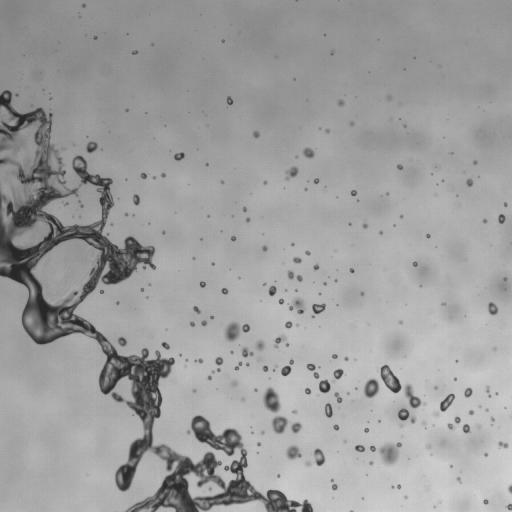droplet: (370, 442, 401, 465), (224, 322, 250, 341), (263, 387, 281, 413), (363, 378, 379, 398), (271, 415, 288, 433), (397, 408, 416, 423), (289, 297, 305, 314), (313, 448, 325, 466), (286, 445, 301, 459), (285, 166, 298, 180), (274, 335, 288, 348), (312, 303, 325, 316), (332, 368, 343, 382), (319, 379, 330, 393), (86, 141, 97, 153), (488, 302, 498, 315), (303, 147, 314, 158), (324, 403, 332, 417), (242, 347, 253, 357), (291, 422, 301, 433), (174, 152, 184, 161), (255, 340, 264, 350), (268, 285, 276, 296), (117, 337, 126, 346), (464, 387, 472, 397), (334, 392, 342, 402), (215, 357, 223, 366), (462, 424, 470, 433), (498, 441, 508, 448), (355, 445, 365, 452), (133, 194, 139, 205), (498, 214, 505, 223), (466, 178, 473, 186), (161, 342, 169, 349), (193, 306, 200, 313), (285, 321, 292, 328), (293, 257, 301, 263), (338, 99, 344, 106), (140, 172, 146, 179), (221, 288, 228, 294), (227, 96, 232, 104), (253, 131, 259, 137), (313, 264, 319, 270), (262, 365, 268, 371), (196, 358, 203, 363), (332, 483, 337, 490), (506, 504, 511, 511), (262, 245, 267, 251), (200, 281, 205, 287), (231, 381, 237, 386), (305, 388, 310, 394), (333, 424, 338, 430), (305, 461, 311, 466), (397, 164, 402, 169), (351, 190, 356, 195), (305, 250, 310, 255), (412, 261, 417, 266), (278, 299, 283, 304), (201, 320, 206, 325), (434, 411, 439, 416), (483, 499, 488, 504), (132, 50, 137, 54), (314, 178, 318, 183), (362, 224, 367, 228), (231, 236, 236, 240), (349, 268, 354, 272), (190, 321, 194, 326), (332, 354, 337, 358), (344, 356, 348, 361), (469, 410, 474, 414), (364, 427, 368, 432), (456, 477, 460, 482), (397, 484, 401, 489), (387, 96, 391, 100), (350, 121, 354, 125), (473, 160, 477, 164), (161, 173, 165, 177), (207, 375, 211, 379), (482, 219, 487, 222), (292, 410, 297, 413), (326, 129, 329, 133), (263, 181, 267, 184), (243, 207, 246, 211), (246, 218, 250, 221), (503, 277, 507, 280), (423, 422, 426, 426), (257, 442, 260, 446), (426, 445, 430, 448), (79, 202, 82, 205), (504, 203, 507, 206), (426, 234, 429, 237), (442, 302, 445, 305), (399, 321, 402, 324), (217, 368, 220, 371), (491, 417, 494, 420), (484, 453, 487, 456), (369, 461, 372, 464), (82, 4, 85, 6), (94, 36, 96, 39), (304, 188, 307, 190), (400, 215, 403, 217), (162, 231, 165, 233), (379, 231, 382, 233), (291, 243, 294, 245), (100, 290, 103, 292), (361, 292, 363, 295), (211, 316, 213, 319), (230, 351, 233, 353), (246, 363, 249, 365), (273, 367, 276, 369), (454, 377, 456, 380), (193, 389, 195, 392), (241, 398, 244, 400), (261, 431, 264, 433), (404, 496, 407, 498), (153, 176, 155, 178), (386, 192, 388, 194), (65, 203, 67, 205), (125, 213, 127, 215), (263, 283, 265, 285), (400, 425, 402, 427), (209, 487, 211, 489)
ligament: (0, 90, 313, 511), (379, 365, 425, 408), (440, 393, 454, 411), (306, 363, 319, 378), (281, 359, 293, 375), (447, 416, 460, 429), (287, 270, 302, 281), (234, 362, 242, 370), (486, 386, 490, 396), (508, 484, 511, 493)
